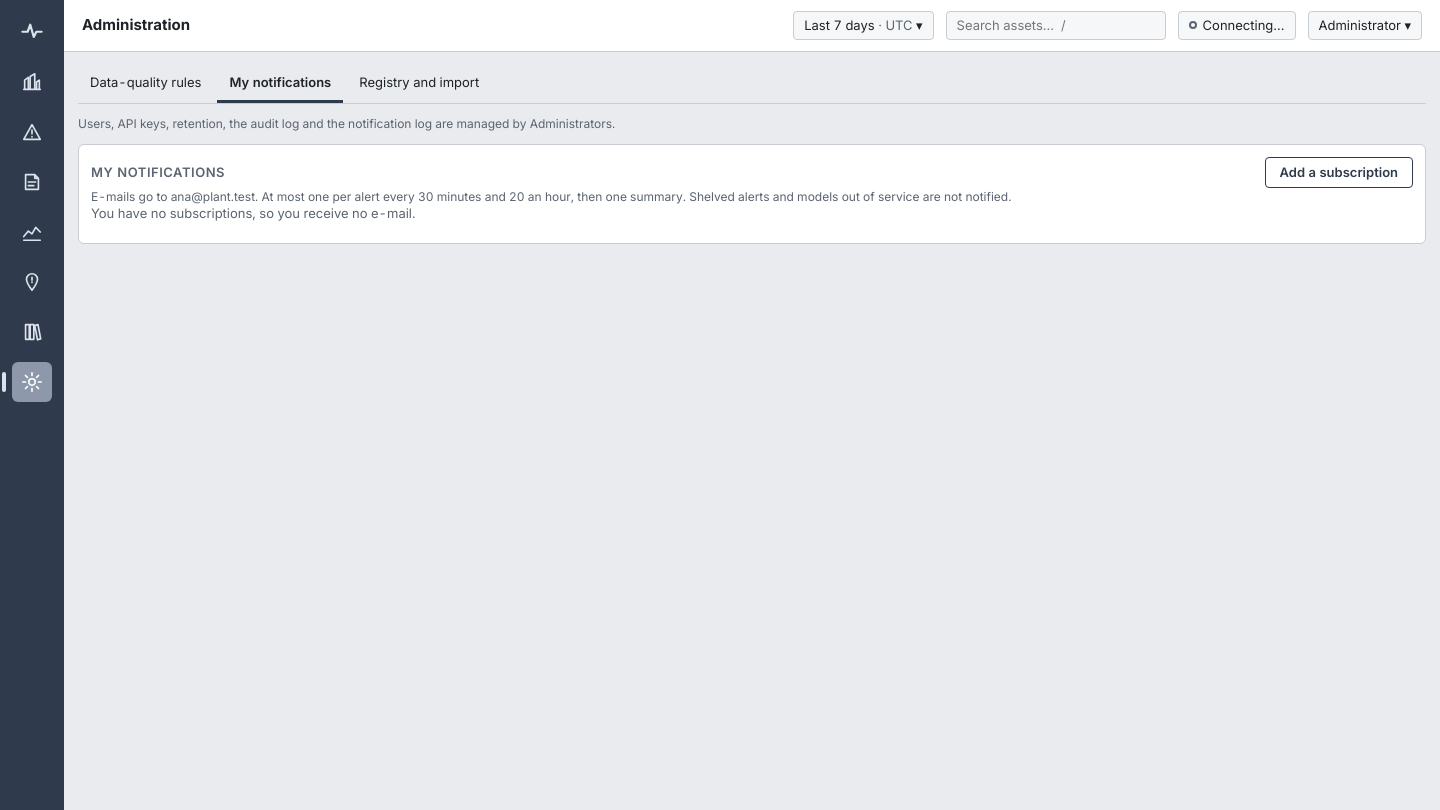
notifications › lets any user subscribe to their own e-mail notifications
Expected: the text "You have no subscriptions, so you receive no e-mail." is shown, [91, 206, 416, 222]
Expected: the text "E-mails go to ana@plant.test" is shown, [91, 189, 1011, 204]
Click the button "Add a subscription". click: [1339, 172]
box: [1264, 157, 1413, 188]
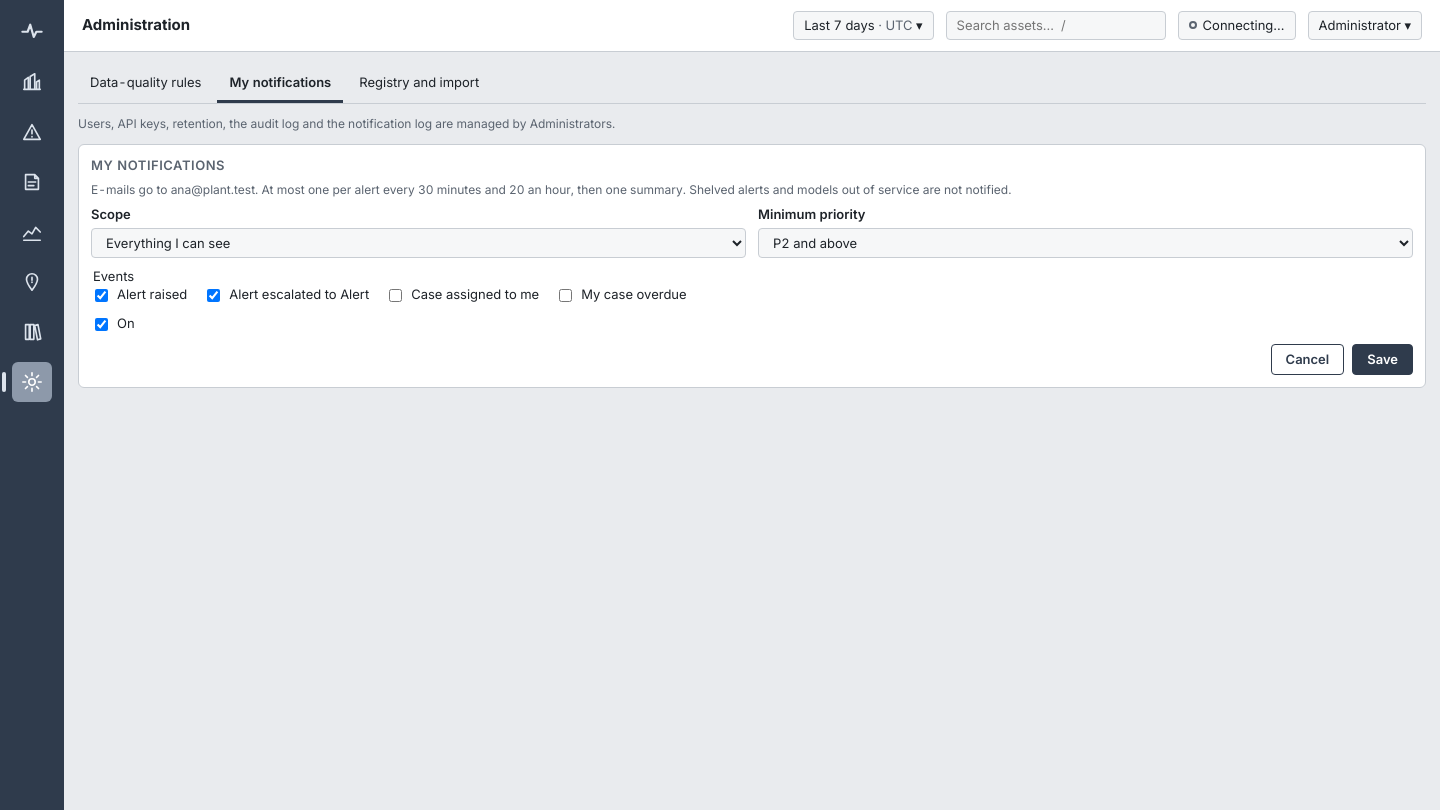
Select "P1 only" in the dropdown labelled "Minimum priority". click: [1086, 243]
box: [758, 228, 1413, 258]
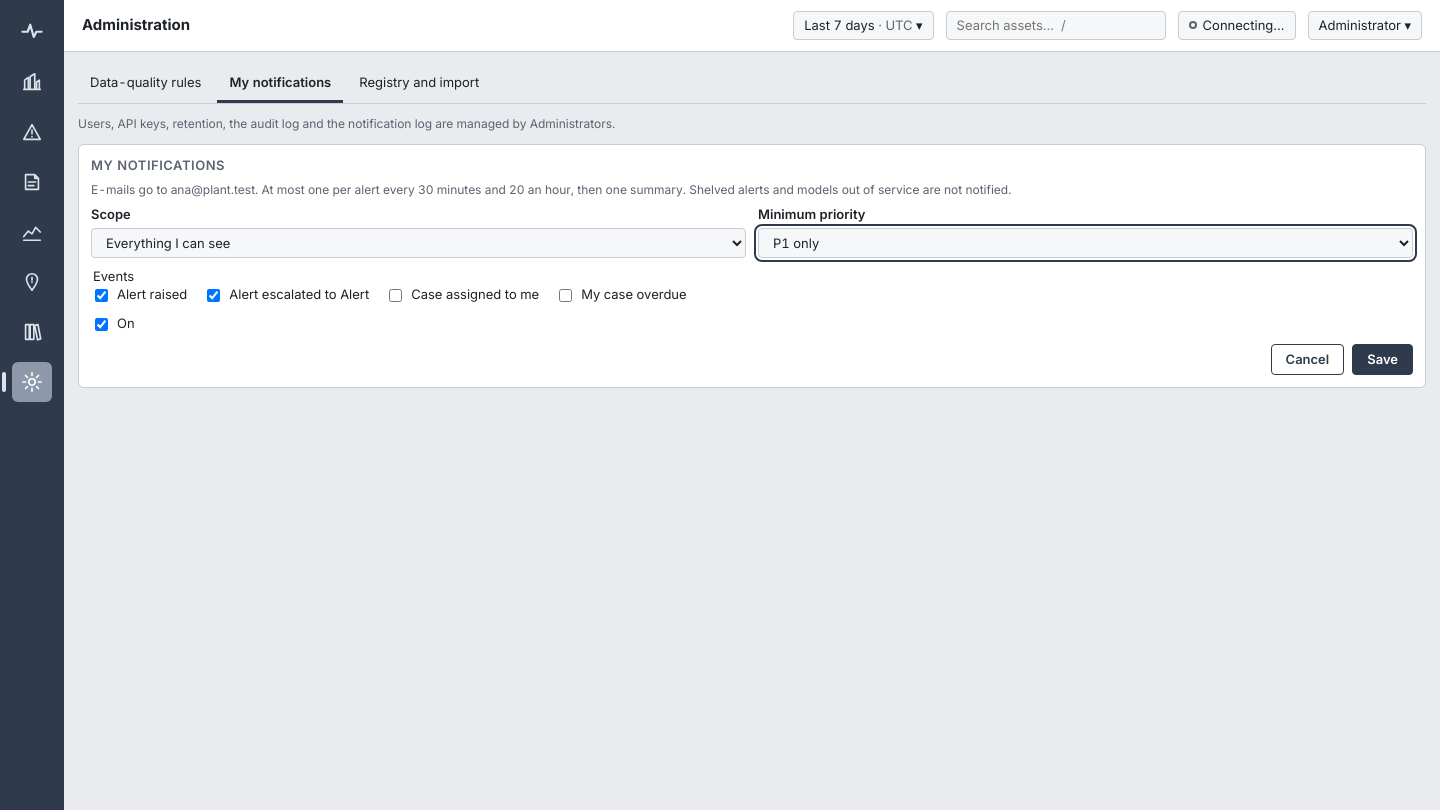
Click the checkbox labelled "Case assigned to me". click: [396, 295]
box: [389, 289, 402, 302]
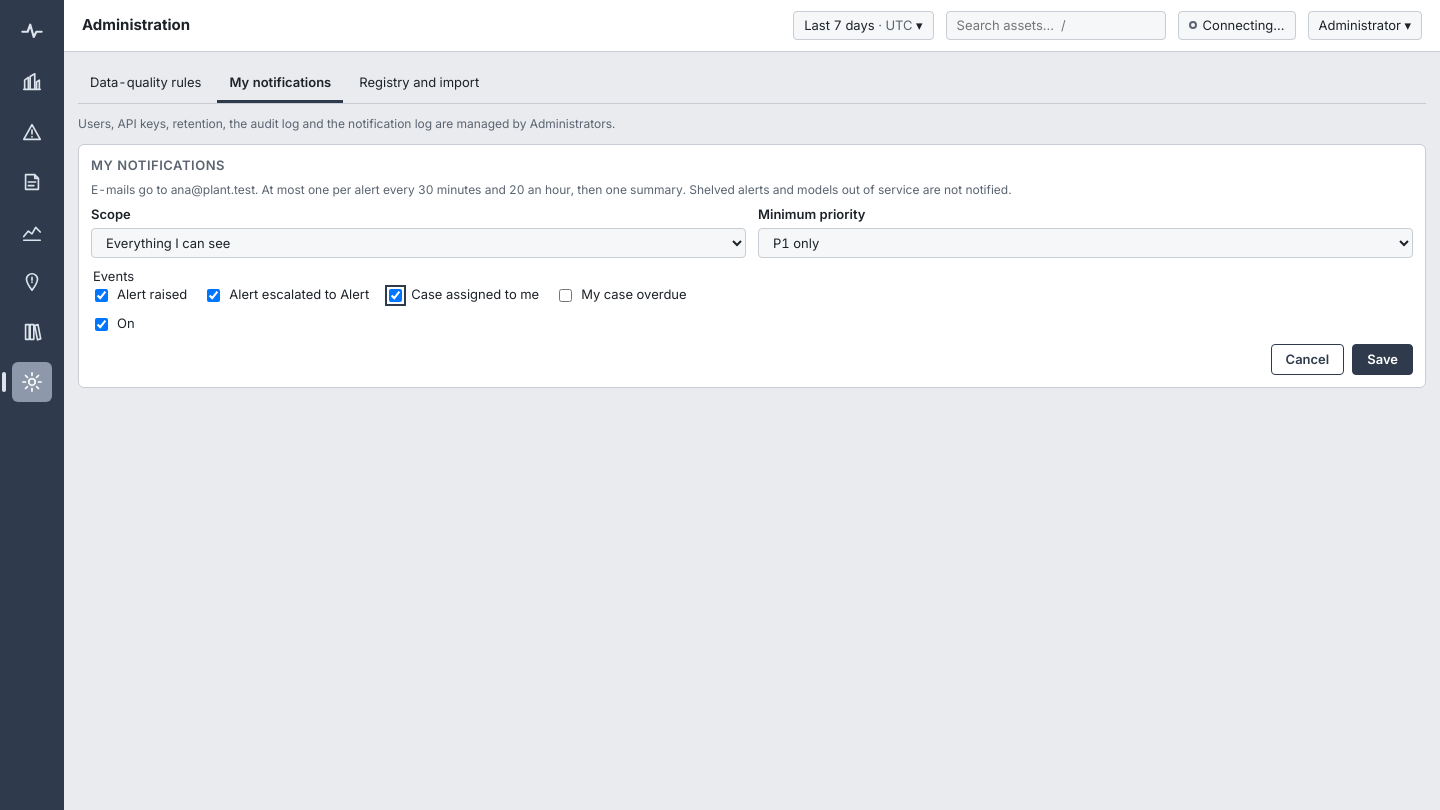
Click the button "Save". click: [1383, 359]
box: [1352, 344, 1413, 375]
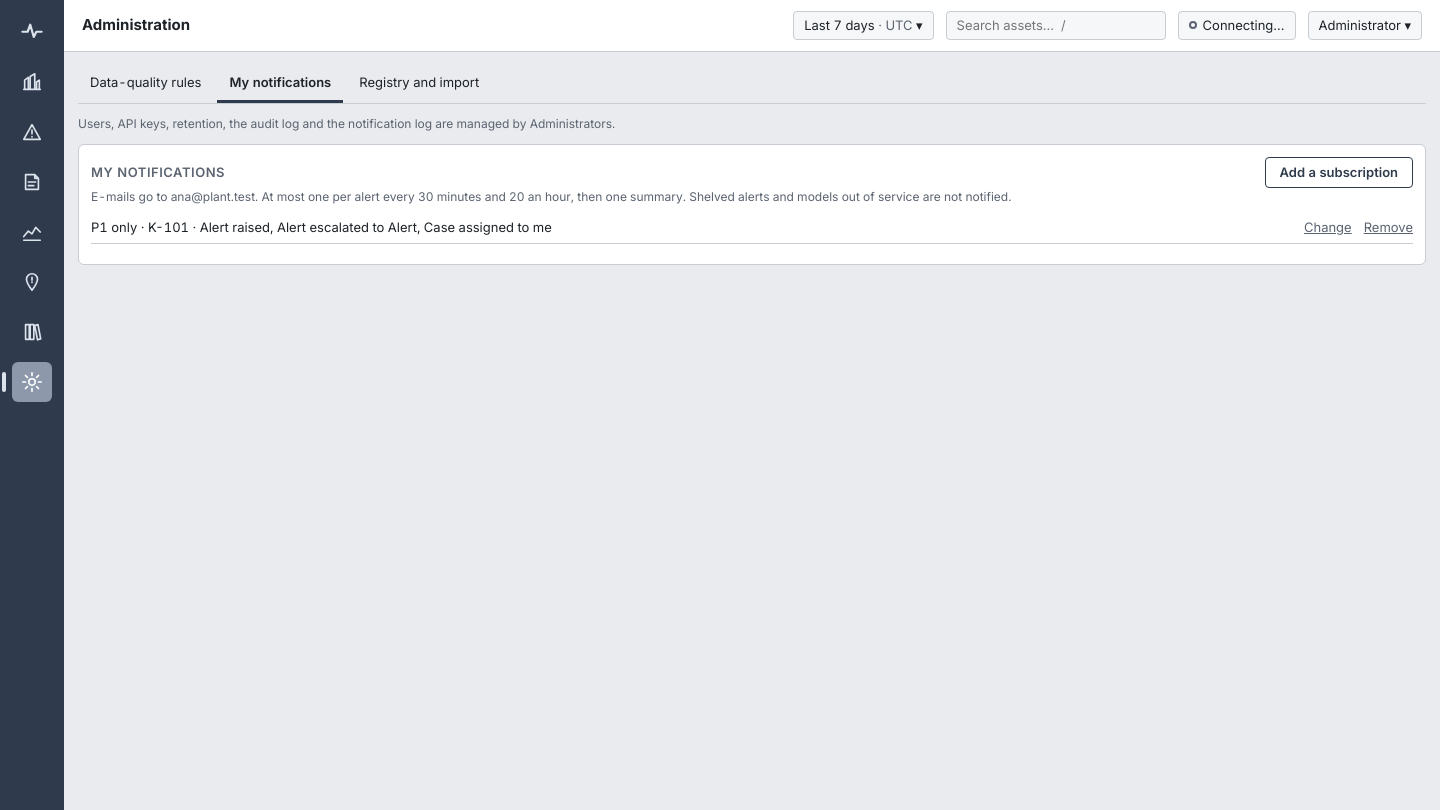
Expected: the text "P1 only · K-101 · Alert raised, Alert escalated to Alert, Case assigned to me" is shown, [91, 220, 552, 237]
